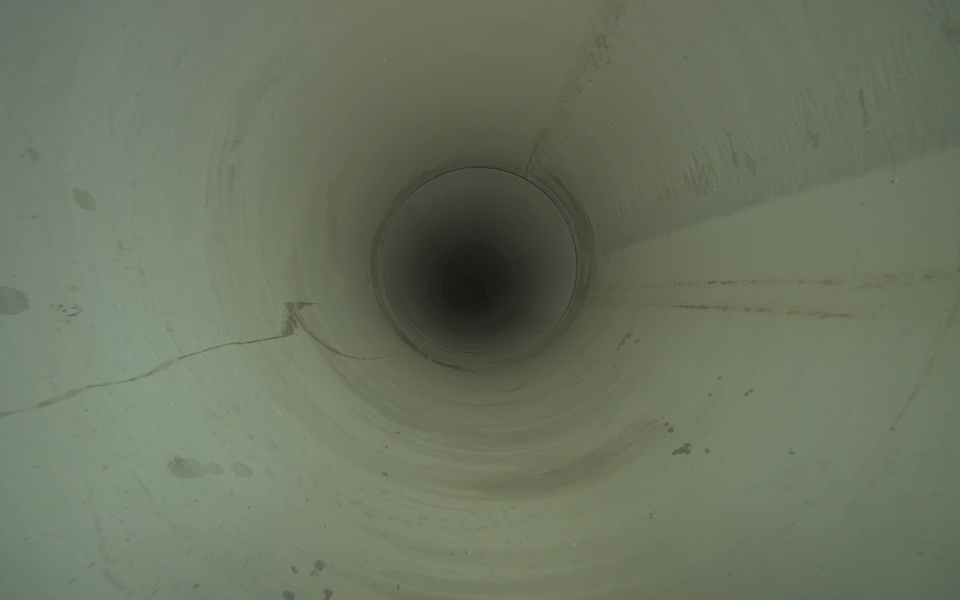circle1: (368, 160, 582, 374)
circle2: (453, 267, 489, 303)
